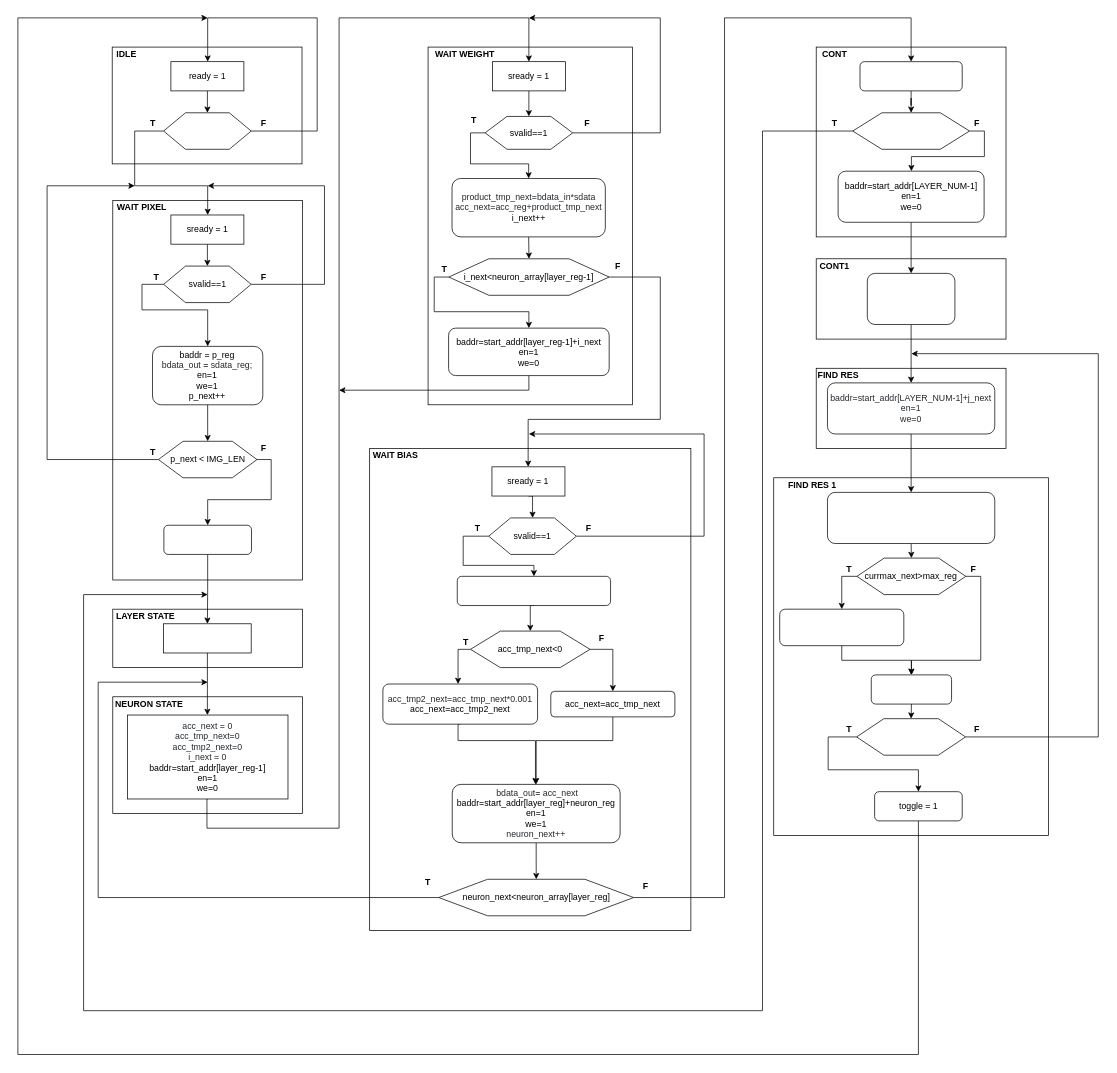
The diagram is 1117 pixels wide and 1073 high, and some of its shapes have lost their labels. The shapes that lost their labels are listed below. From the top down, each one's box as (x1, y1, x2, y2) in pixels, then its label:
(859, 61, 962, 91): layer_next++
(163, 112, 251, 149): start==1
(852, 112, 970, 149): layer_next<LAYER_NUM
(867, 273, 955, 324): max_next=bdata_in res_next=0 j_next=1
(827, 492, 995, 543): currmax_next=bdata_in en=1 we=0
(163, 525, 251, 554): layer_next = 1
(457, 576, 611, 606): acc_tmp_next=acc_reg+sdata
(163, 623, 251, 653): neuron_next = 0
(779, 608, 904, 646): max_next=currmax_next res_next=j_reg
(871, 674, 952, 704): j_next++
(856, 718, 966, 755): j_next==10
